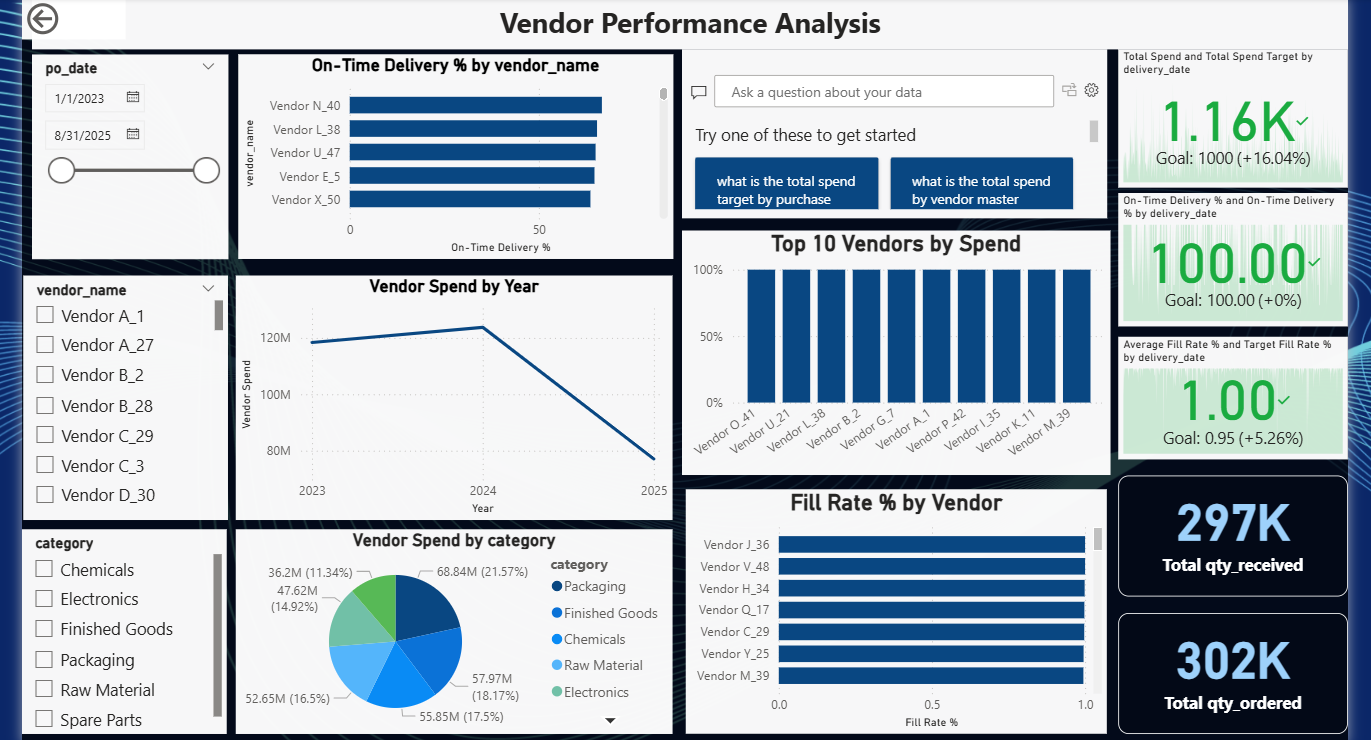

What the dashboard file says about the page in this screenshot:
{"tool":"powerbi","page":{"name":"Page 1","canvas":[1280,720],"ordinal":0},"visuals":[{"type":"textbox","box":[9.6,0,1270.7,49.4],"z":0},{"type":"card","fields":{"Values":["Sum(vendor_purchase_orders_clean.qty_ordered)"]},"box":[1058,593.6,222,117],"z":1000},{"type":"card","fields":{"Values":["Sum(vendor_purchase_orders_clean.qty_received)"]},"box":[1058,460.9,222,117],"z":2000},{"type":"actionButton","box":[0,0,100,40],"z":3000},{"type":"hundredPercentStackedColumnChart","title":"Top 10 Vendors by Spend","fields":{"Category":["vendor_purchase_orders_clean.vendor_name"],"Y":["vendor_purchase_orders_clean.Vendor Spend"]},"box":[637.4,223.9,413.5,236.3],"z":4000},{"type":"clusteredBarChart","title":"Fill Rate % by Vendor","fields":{"Y":["vendor_purchase_orders_clean.Fill Rate %"],"Category":["vendor_purchase_orders_clean.vendor_name"]},"box":[640.1,473.9,406.6,236.3],"z":5000},{"type":"qnaVisual","box":[637.4,49.5,410.7,163.5],"z":6000},{"type":"clusteredBarChart","title":"On-Time Delivery % by vendor_name","fields":{"Category":["vendor_purchase_orders_clean.vendor_name"],"Y":["vendor_purchase_orders_clean.On-Time Delivery %"]},"box":[208.7,54.3,419.8,197.9],"z":7000},{"type":"pieChart","fields":{"Category":["vendor_purchase_orders_clean.category"],"Y":["vendor_purchase_orders_clean.Vendor Spend"]},"box":[206.1,512.4,421.7,197.8],"z":8000},{"type":"lineChart","fields":{"Category":["vendor_purchase_orders_clean.po_date.Variation.Date Hierarchy.Year","vendor_purchase_orders_clean.po_date.Variation.Date Hierarchy.Month"],"Y":["vendor_purchase_orders_clean.Vendor Spend"]},"box":[206.1,267.9,421.7,236.3],"z":9000},{"type":"slicer","fields":{"Values":["vendor_purchase_orders_clean.vendor_name"]},"box":[1.4,267.9,197.8,236.3],"z":10000},{"type":"slicer","fields":{"Values":["item_master_clean.category"]},"box":[0,512.4,197.8,197.8],"z":11000},{"type":"slicer","fields":{"Values":["vendor_purchase_orders_clean.po_date"]},"box":[9.7,54.3,189.4,197.9],"z":12000},{"type":"kpi","fields":{"Indicator":["vendor_purchase_orders_clean.Total Spend"],"Goal":["vendor_purchase_orders_clean.Total Spend Target"],"TrendLine":["vendor_purchase_orders_clean.delivery_date"]},"box":[1058,49.5,222,133.9],"z":13000},{"type":"kpi","fields":{"Indicator":["vendor_purchase_orders_clean.On-Time Delivery %"],"TrendLine":["vendor_purchase_orders_clean.delivery_date"],"Goal":["vendor_purchase_orders_clean.On-Time Delivery %"]},"box":[1058,188.2,222,129.1],"z":14000},{"type":"kpi","fields":{"Indicator":["vendor_purchase_orders_clean.Average Fill Rate %"],"TrendLine":["vendor_purchase_orders_clean.delivery_date"],"Goal":["vendor_purchase_orders_clean.Target Fill Rate %"]},"box":[1058,326.9,222,118.2],"z":15000}]}

Visuals, with their boxes in screenshot pixels (x1, y1, x2, y2):
textbox: 21 0 1354 45
card - Sum(vendor_purchase_orders_clean.qty_ordered): 1121 616 1354 739
card - Sum(vendor_purchase_orders_clean.qty_received): 1121 477 1354 599
actionButton: 11 0 116 35
"Top 10 Vendors by Spend" hundredPercentStackedColumnChart: 680 228 1114 476
"Fill Rate % by Vendor" clusteredBarChart: 682 490 1109 738
qnaVisual: 680 45 1111 216
"On-Time Delivery % by vendor_name" clusteredBarChart: 230 50 670 258
pieChart - vendor_purchase_orders_clean.category x vendor_purchase_orders_clean.Vendor Spend: 227 531 670 738
lineChart - vendor_purchase_orders_clean.po_date.Variation.Date Hierarchy.Year x vendor_purchase_orders_clean.po_date.Variation.Date Hierarchy.Month: 227 274 670 522
slicer - vendor_purchase_orders_clean.vendor_name: 12 274 220 522
slicer - item_master_clean.category: 11 531 218 738
slicer - vendor_purchase_orders_clean.po_date: 21 50 220 258
kpi - vendor_purchase_orders_clean.Total Spend x vendor_purchase_orders_clean.Total Spend Target: 1121 45 1354 185
kpi - vendor_purchase_orders_clean.On-Time Delivery % x vendor_purchase_orders_clean.delivery_date: 1121 190 1354 326
kpi - vendor_purchase_orders_clean.Average Fill Rate % x vendor_purchase_orders_clean.delivery_date: 1121 336 1354 460
